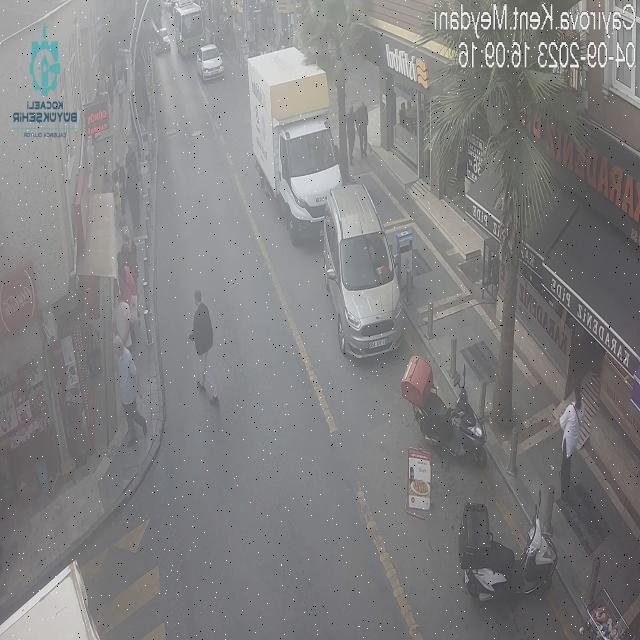Bus: (172, 0, 206, 54)
Car: (322, 184, 406, 361), (195, 43, 224, 81)
Cycle: (456, 491, 558, 606), (397, 353, 492, 468)
Truck: (244, 44, 350, 241)
